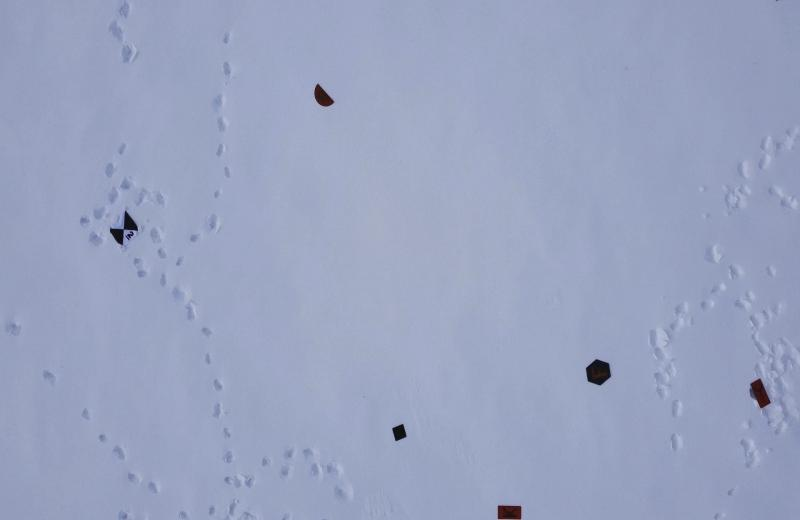Hexagon: (586, 354, 616, 389)
Rectangle: (750, 374, 774, 414), (494, 496, 525, 520)
Semi Circle: (310, 80, 334, 111)
Square: (389, 423, 412, 447)
